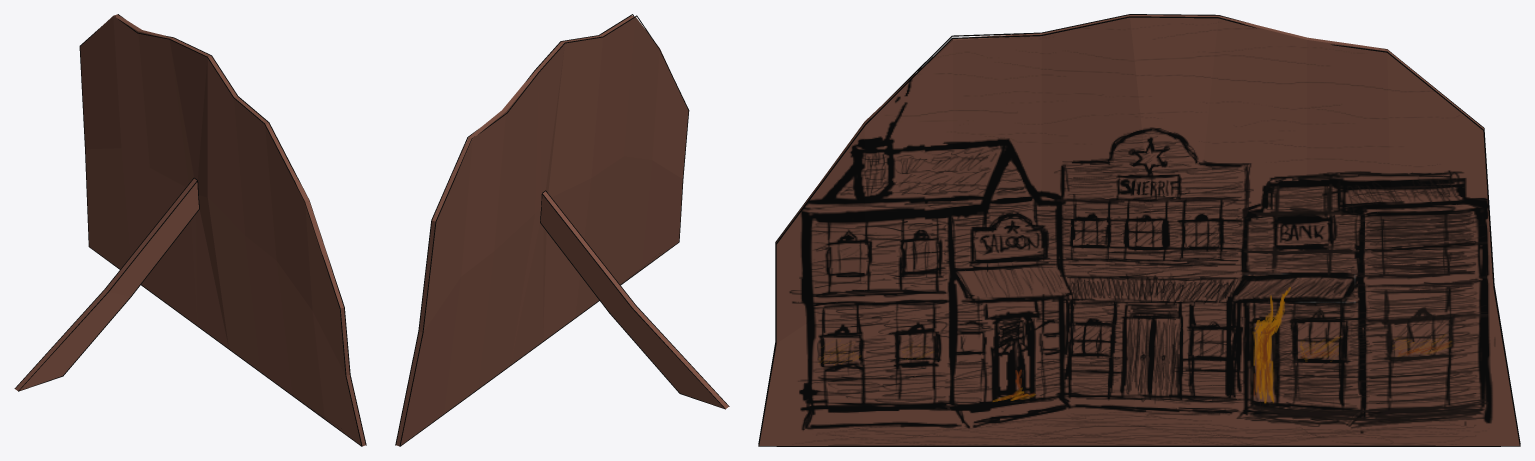
File: carboard2_old.glb
3 views of the same model, side by side, from view 1: azimuth 30°, elevation 25°; view 2: azimuth 150°, elevation 25°; view 3: azimuth 270°, elevation 25° (orthographic). The views are drawn at different scales.
Parts seen in each view (by area): view 1: Cube; view 2: Cube; view 3: Cube.
Boxes of the visible parts, <box> form: Cube: <box>14,14,366,446</box>; Cube: <box>395,14,729,446</box>; Cube: <box>758,14,1520,446</box>.
Size of the model in its own units: 5.12 by 7.37 by 12.05.
Materials: 2 (1 with a texture image).
